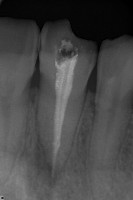Furcation Involvement: (23, 135, 59, 200)
